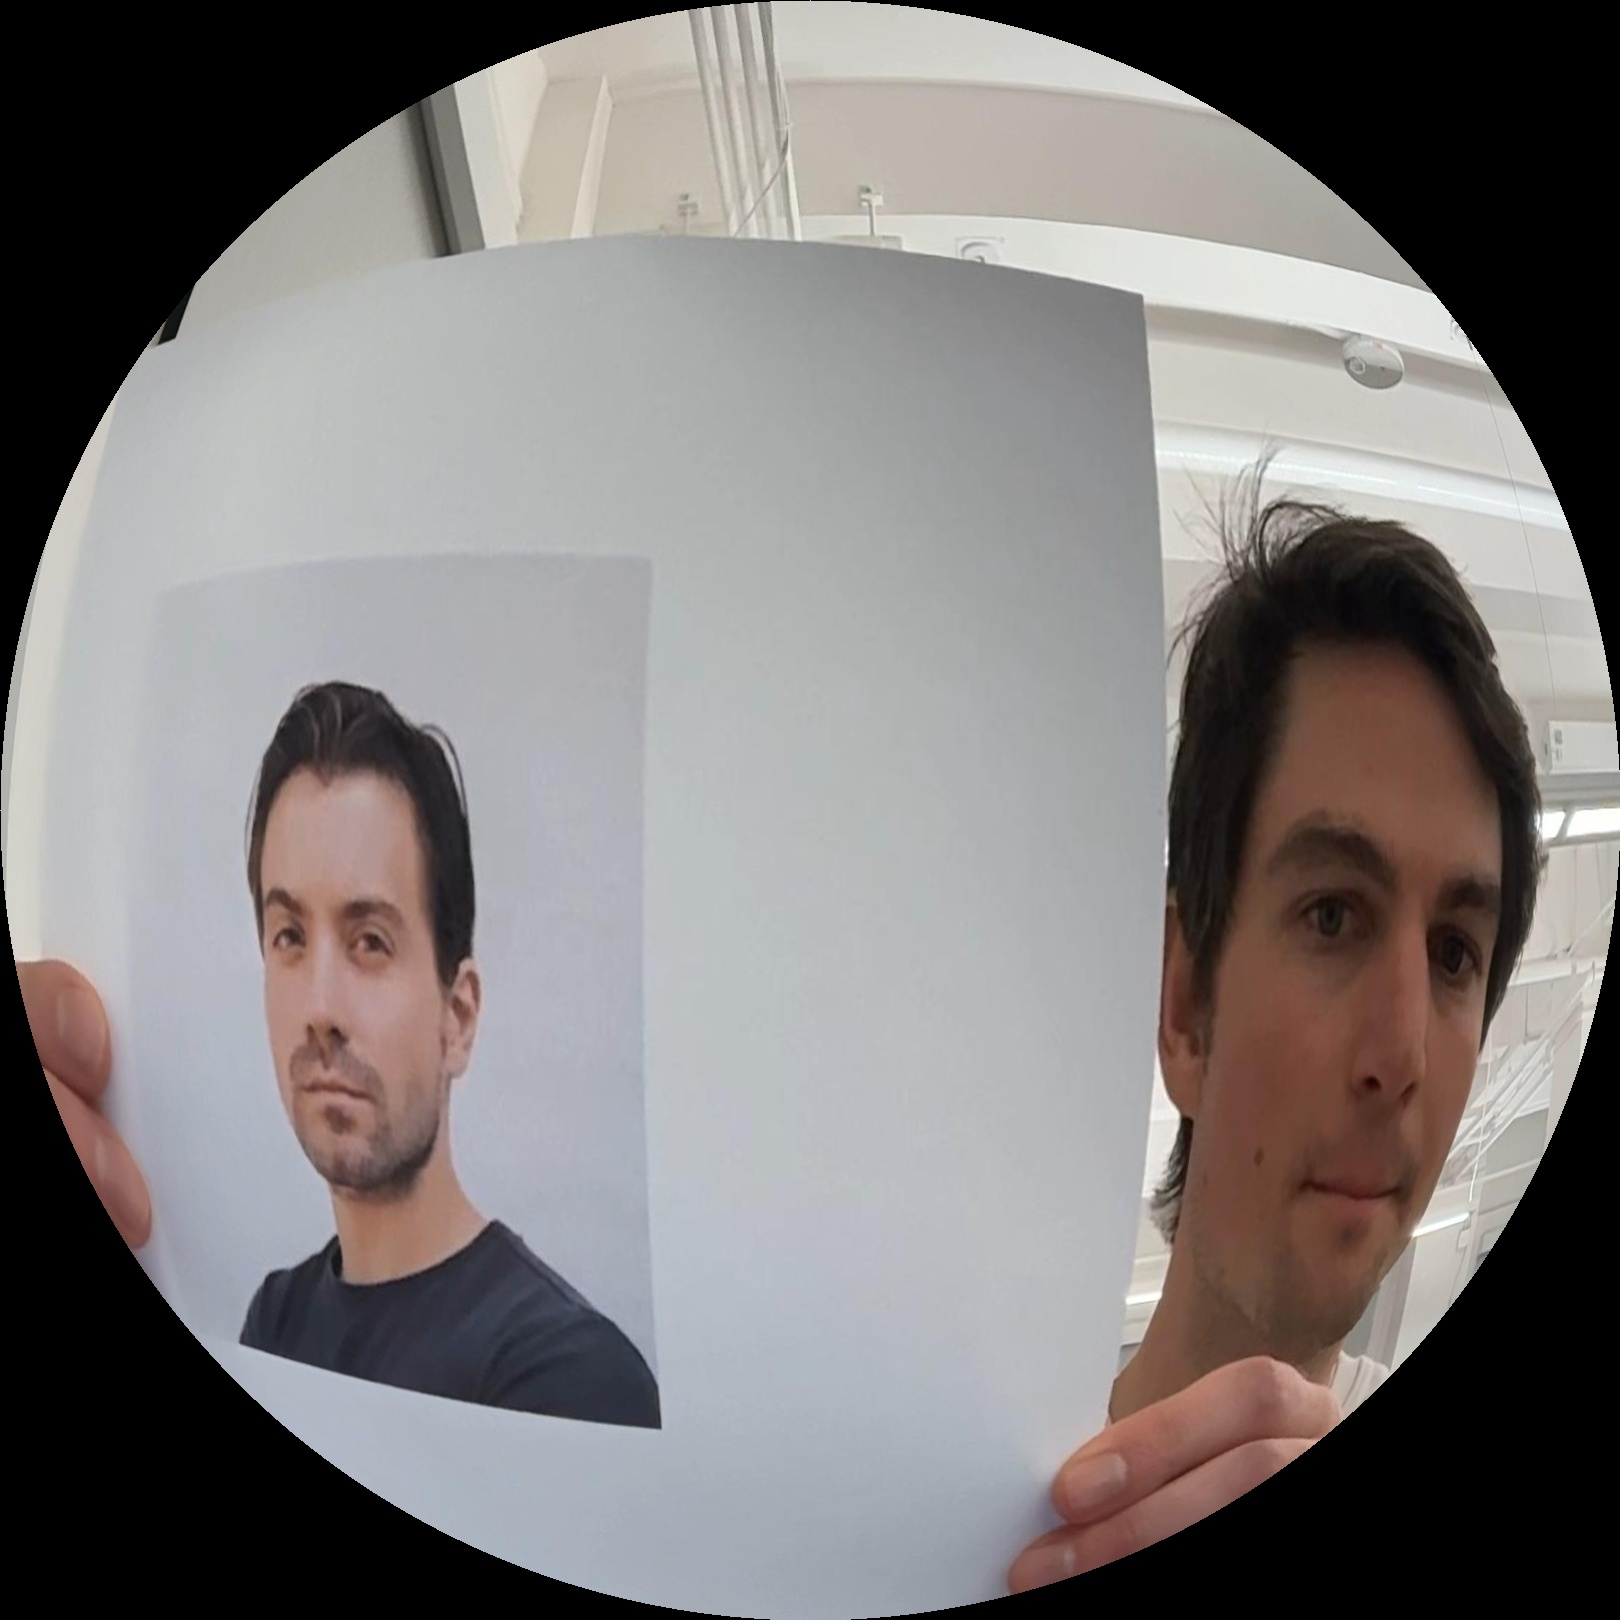face: (1137, 664, 1503, 1401), (237, 662, 505, 1222)
